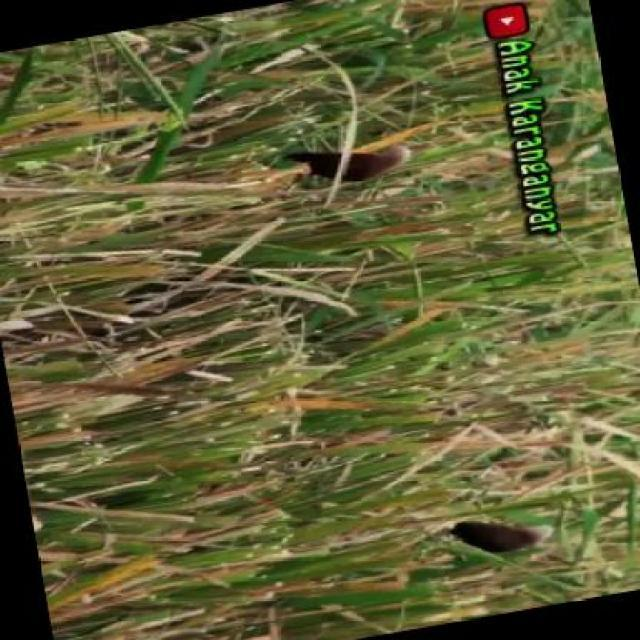Bird: (287, 126, 419, 204), (449, 519, 555, 560)
